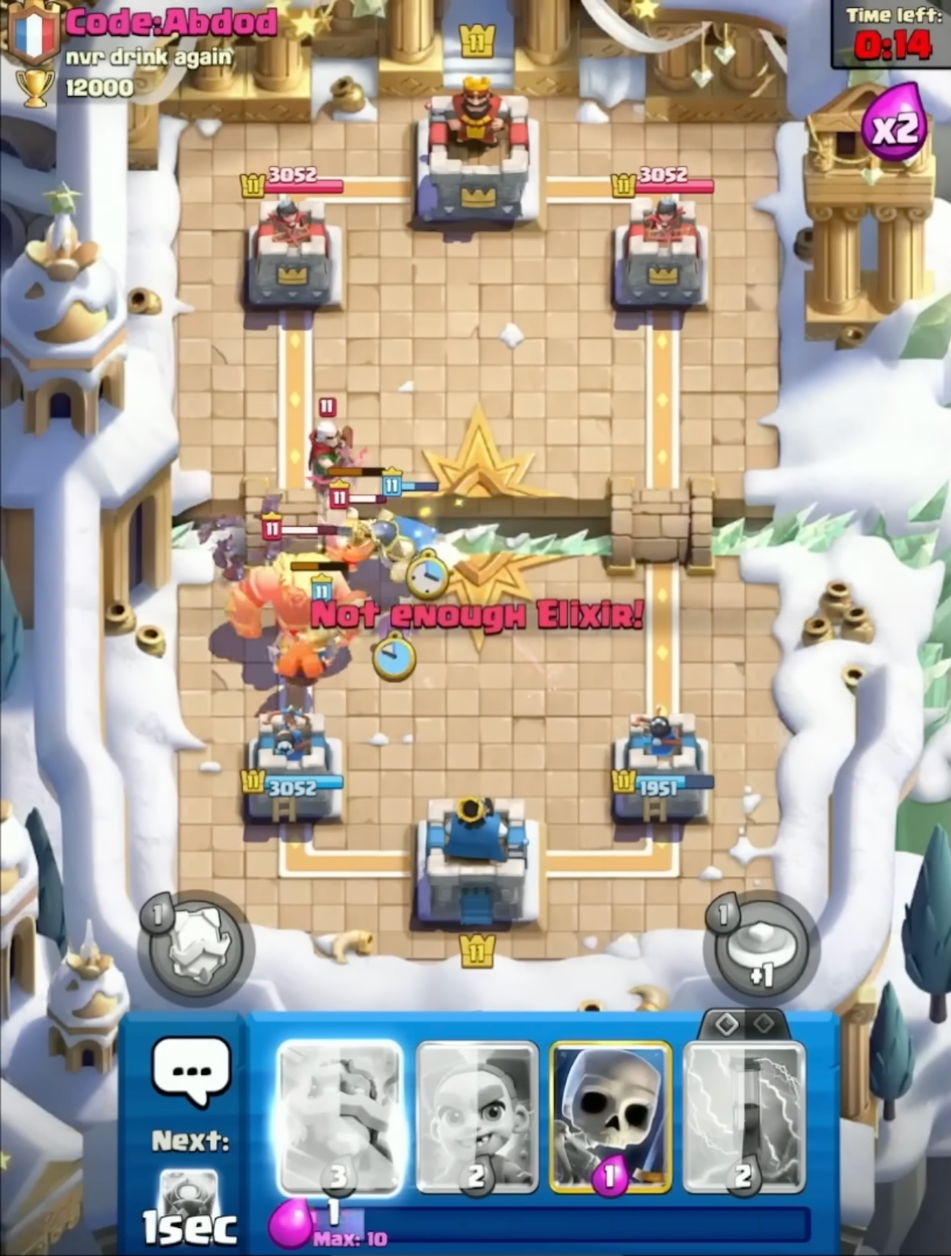hero-giant: (229, 508, 376, 674)
hero-mini-pekka: (319, 462, 395, 577)
magic-archer: (297, 391, 377, 500)
